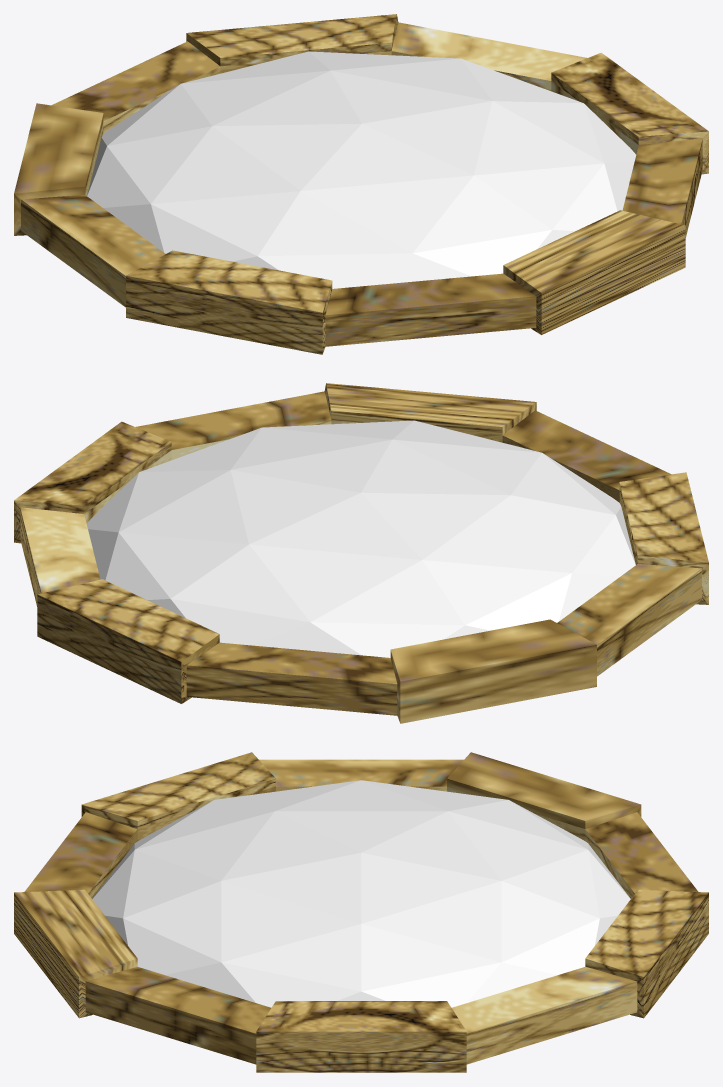
The model's file is amulet.glb.
3 renders of one model, top to bottom at view 1: azimuth 30°, elevation 25°; view 2: azimuth 150°, elevation 25°; view 3: azimuth 270°, elevation 25°, orthographic. The views are drawn at different scales.
Visible parts, largest first — view 1: Icosphere; view 2: Icosphere; view 3: Icosphere.
Boxes of the visible parts, x1=… form: Icosphere: x1=14, y1=14, x2=708, y2=354; Icosphere: x1=14, y1=383, x2=708, y2=723; Icosphere: x1=14, y1=752, x2=708, y2=1072.
Size of the model in its own units: 0.1939 by 0.0385 by 0.2039.
Materials: 2 (1 with a texture image).
